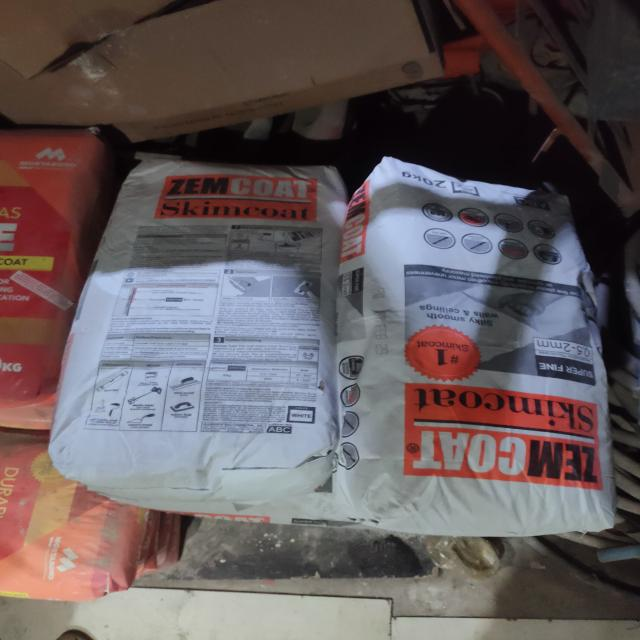Skim coat: (94, 159, 333, 511), (339, 175, 580, 515)
